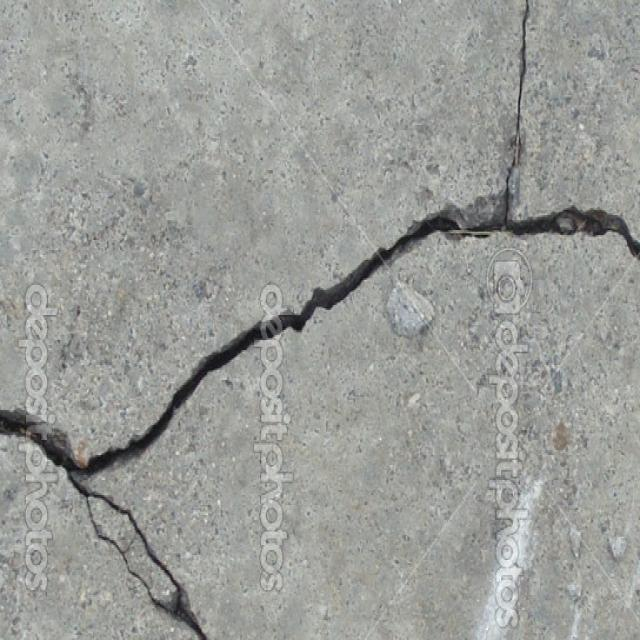crack: (1, 206, 639, 477), (69, 478, 208, 638), (494, 0, 534, 216)
